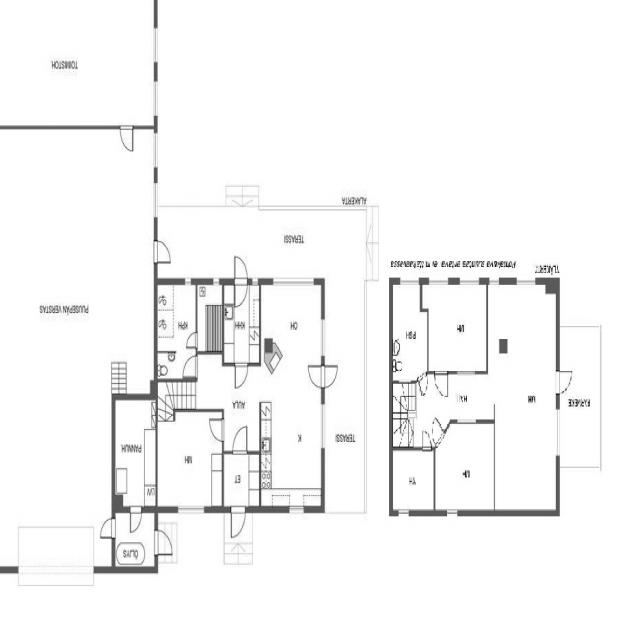door: (199, 416, 220, 452), (428, 418, 445, 447), (154, 530, 172, 556), (231, 507, 245, 538), (232, 426, 246, 454), (321, 366, 338, 388), (556, 371, 572, 394), (417, 372, 431, 398), (308, 366, 324, 388), (154, 240, 170, 262), (182, 356, 198, 378), (434, 371, 447, 398), (235, 256, 247, 284), (235, 278, 247, 306), (235, 362, 248, 387), (120, 126, 133, 151), (100, 518, 116, 538), (130, 506, 141, 532), (186, 332, 198, 347), (422, 432, 432, 450)
